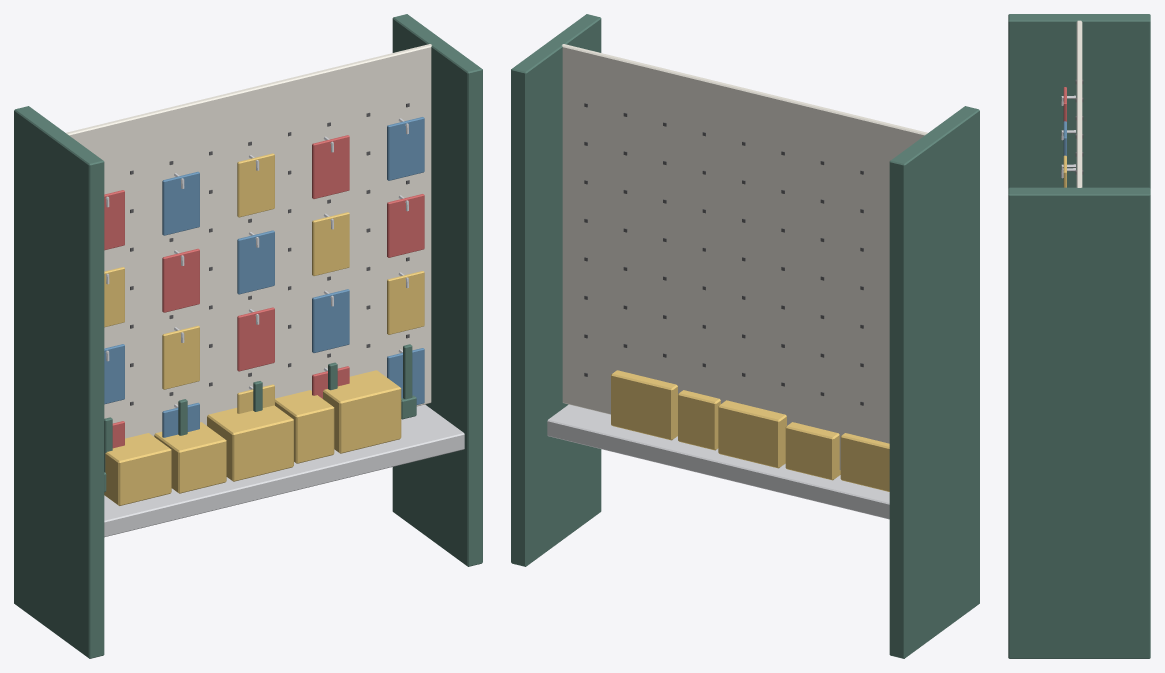
The picture shows the model from 3 angles, left to right: view 1: azimuth 30°, elevation 25°; view 2: azimuth 150°, elevation 25°; view 3: azimuth 270°, elevation 25°; orthographic projection. The views are drawn at different scales.
Parts seen in each view (by area): view 1: hardware-and-tool-pegboard; view 2: hardware-and-tool-pegboard; view 3: hardware-and-tool-pegboard.
Part boxes in pixels (x1,y1,x2,y2): hardware-and-tool-pegboard: [14, 14, 482, 658]; hardware-and-tool-pegboard: [511, 14, 979, 658]; hardware-and-tool-pegboard: [1008, 14, 1150, 658].
Size of the model in its own units: 1.5 by 1.8 by 0.5001.
